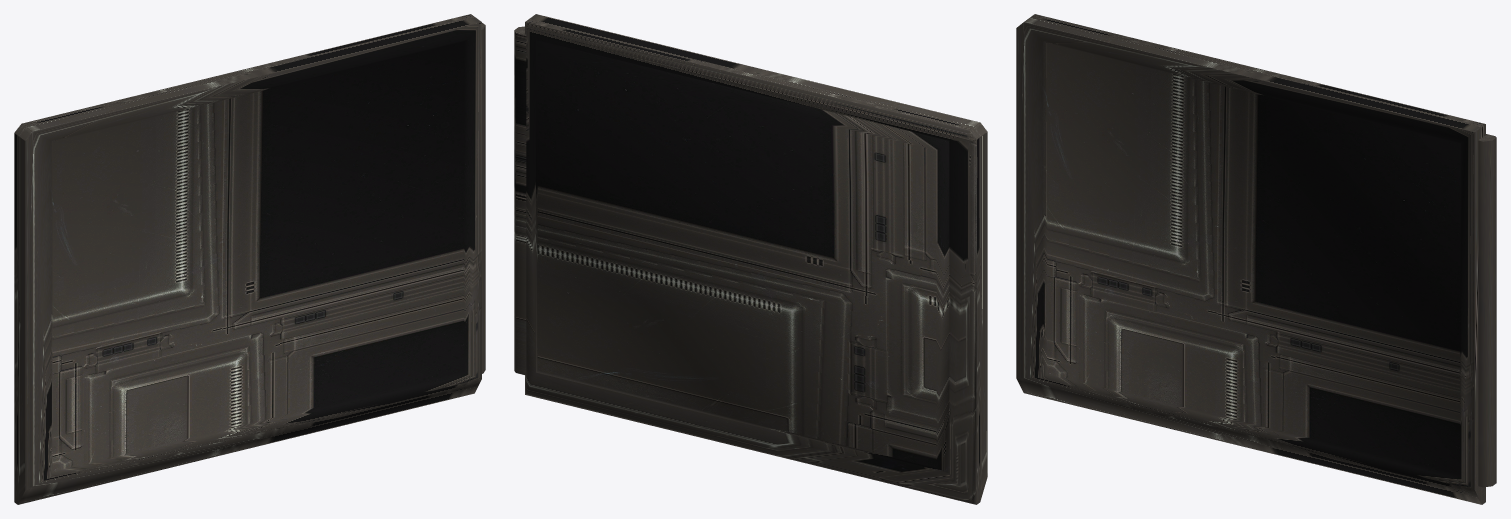
Rendered from computer_panel_large.dae.
3 renders of one model, left to right at view 1: azimuth 30°, elevation 25°; view 2: azimuth 150°, elevation 25°; view 3: azimuth 330°, elevation 25°, orthographic.
Visible parts, largest first — view 1: computer_panel_large; view 2: computer_panel_large; view 3: computer_panel_large.
Part boxes in pixels (x1,y1,x2,y2): computer_panel_large: [14, 14, 485, 504]; computer_panel_large: [514, 14, 987, 504]; computer_panel_large: [1016, 14, 1496, 504].
Bounding box in the file's own units: 1.93 × 1.49 × 0.1336.
